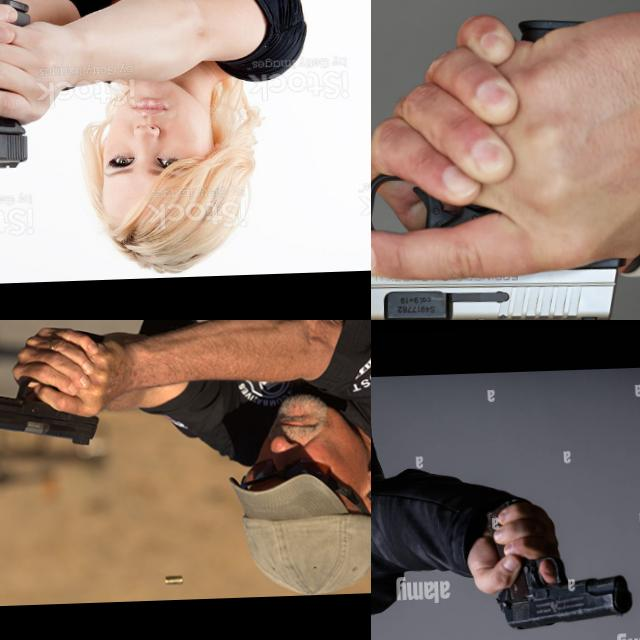handgun: (371, 162, 635, 320), (491, 550, 634, 634), (0, 66, 79, 175), (0, 370, 104, 449)
